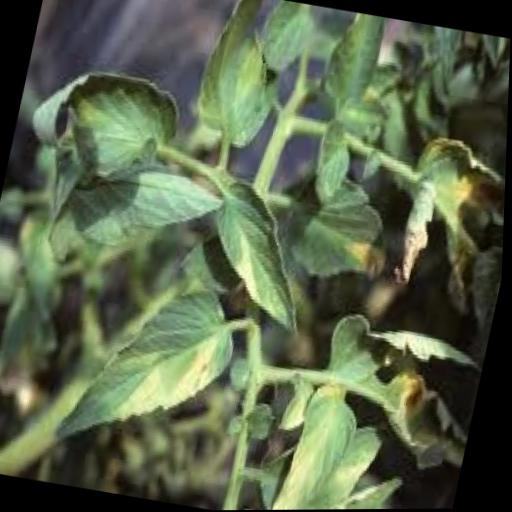Leaf Mold: (55, 268, 252, 470), (195, 177, 335, 349), (35, 65, 195, 192), (274, 164, 416, 293), (187, 0, 295, 162), (270, 390, 366, 510)
